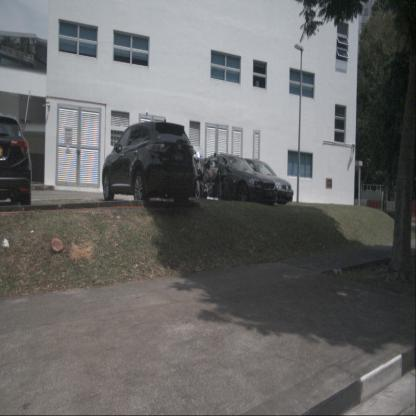barrier: (381, 200, 396, 212), (367, 200, 381, 210), (354, 199, 368, 209), (408, 201, 416, 217)
